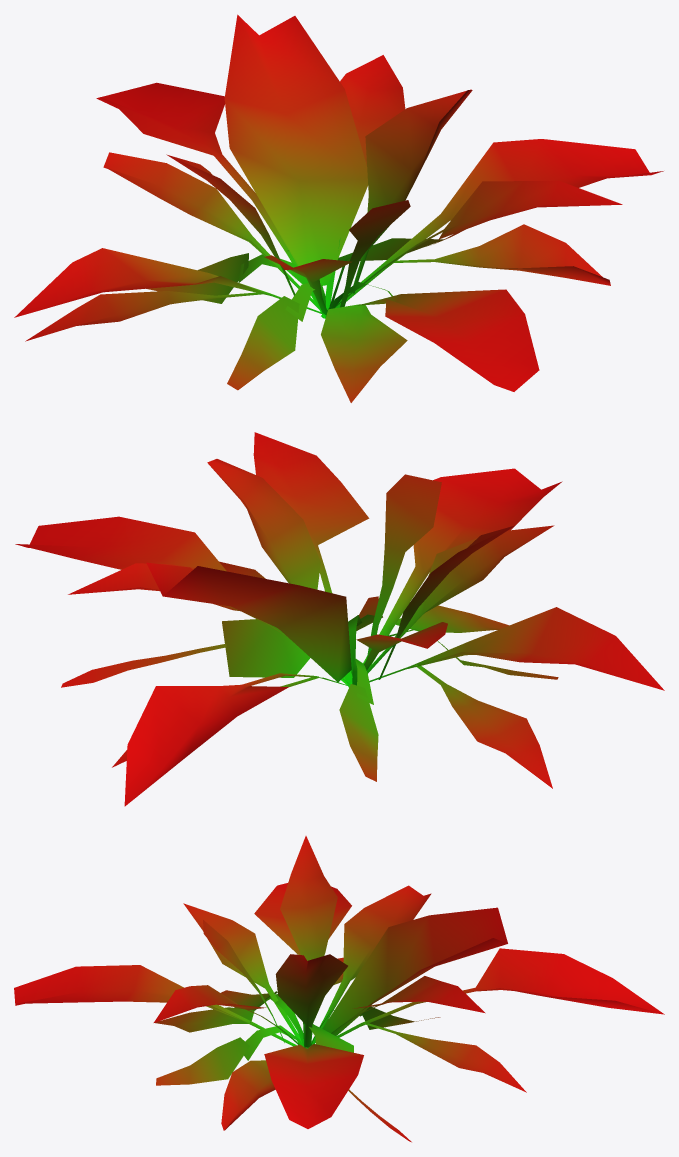
Rendered from Var3_LOD2.fbx.
3 views of the same model, one above another, from view 1: azimuth 30°, elevation 25°; view 2: azimuth 150°, elevation 25°; view 3: azimuth 270°, elevation 25° (orthographic). The views are drawn at different scales.
Parts seen in each view (by area): view 1: _ea44_Var3_LOD2; view 2: _ea44_Var3_LOD2; view 3: _ea44_Var3_LOD2.
Part boxes in pixels (x1,y1,x2,y2): _ea44_Var3_LOD2: [14, 14, 663, 402]; _ea44_Var3_LOD2: [15, 432, 664, 806]; _ea44_Var3_LOD2: [14, 836, 664, 1142].
Size of the model in its own units: 108 by 33.8 by 122.
